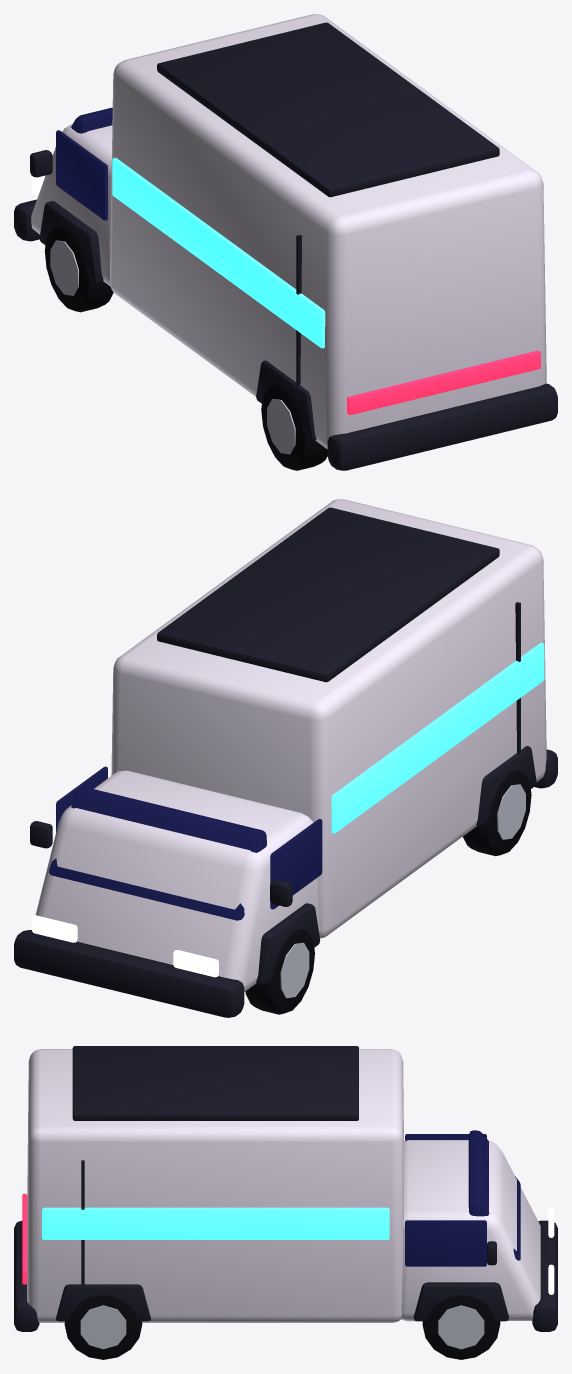
The model's file is city_van.glb.
3 views of the same model, one above another, from view 1: azimuth 30°, elevation 25°; view 2: azimuth 150°, elevation 25°; view 3: azimuth 270°, elevation 25° (orthographic). The views are drawn at different scales.
Visible parts, largest first — view 1: Body, WheelFLMesh, WheelRLMesh; view 2: Body, WheelFLMesh, WheelRLMesh; view 3: Body, WheelFRMesh, WheelRRMesh.
Boxes of the visible parts, left/top/right/bottom form: Body: left=14, top=14, right=557, bottom=470; WheelFLMesh: left=44, top=226, right=113, bottom=312; WheelRLMesh: left=261, top=384, right=327, bottom=470; Body: left=14, top=499, right=557, bottom=1017; WheelFLMesh: left=245, top=928, right=314, bottom=1014; WheelRLMesh: left=463, top=770, right=531, bottom=856; Body: left=14, top=1046, right=557, bottom=1331; WheelFRMesh: left=422, top=1295, right=500, bottom=1359; WheelRRMesh: left=64, top=1295, right=142, bottom=1359.
Size of the model in its own units: 2.42 by 2.55 by 5.32.
